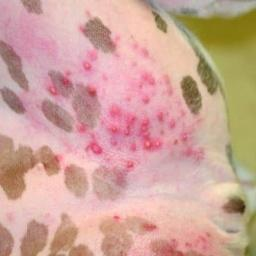pyoderma: (45, 46, 213, 161), (107, 206, 224, 256)
